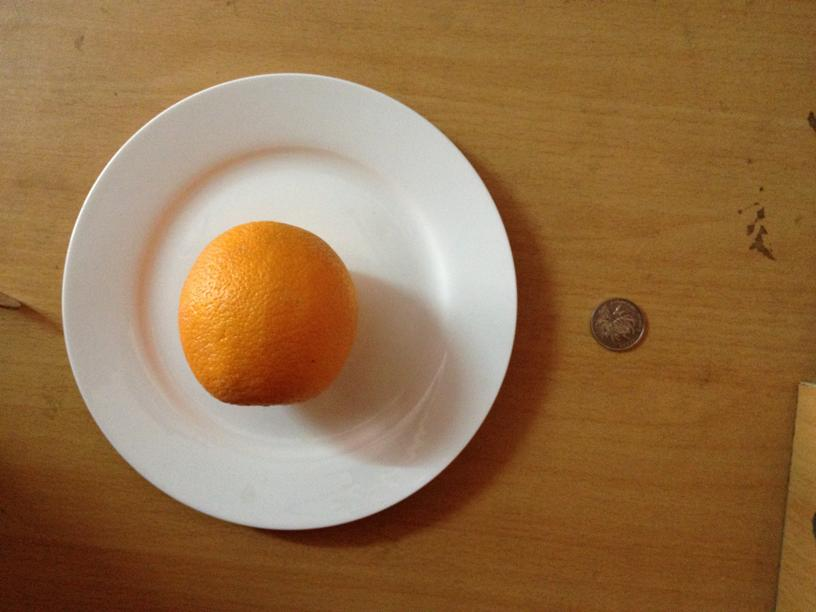coin: (590, 294, 647, 352)
orange: (177, 222, 357, 406)
